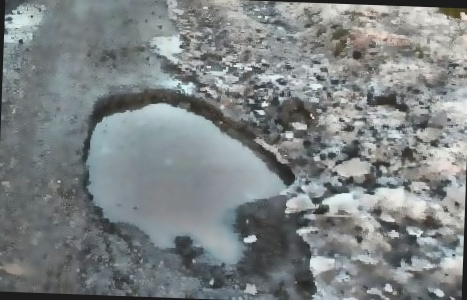pothole: (75, 83, 305, 267), (366, 93, 413, 124), (331, 153, 378, 178)
